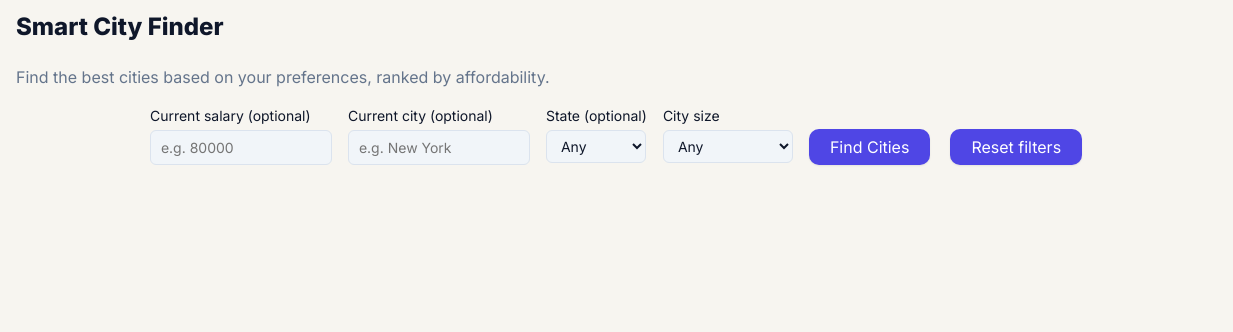
SmartCityFinder › resets all filters and clears rendered results
Type "90000" into the number field with placeholder "e.g. 80000" at (241, 147), box [150,130,332,165]
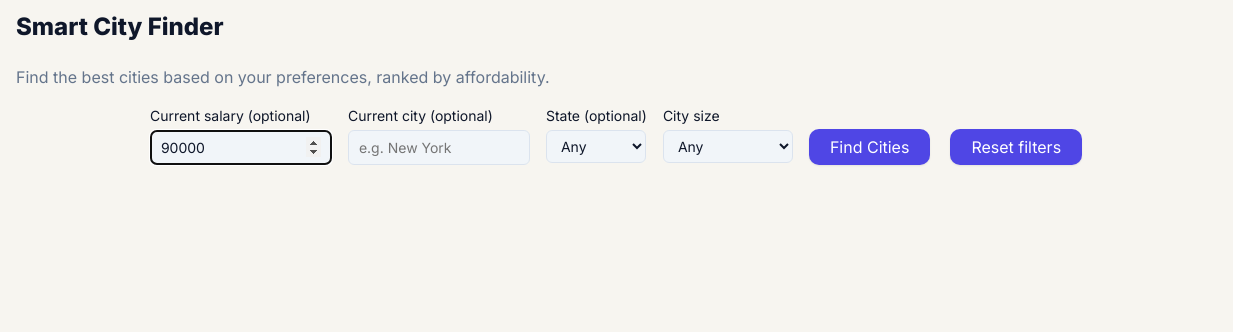
Type "New York" into the field with placeholder "e.g. New York" at (439, 147), box [348,130,530,165]
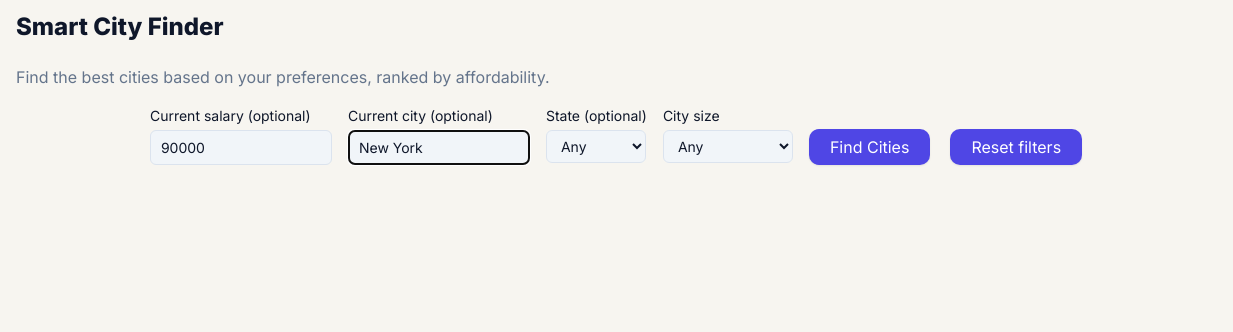
Select "TX" in the dropdown labelled "State (optional)" at (596, 146), box [546,130,646,163]
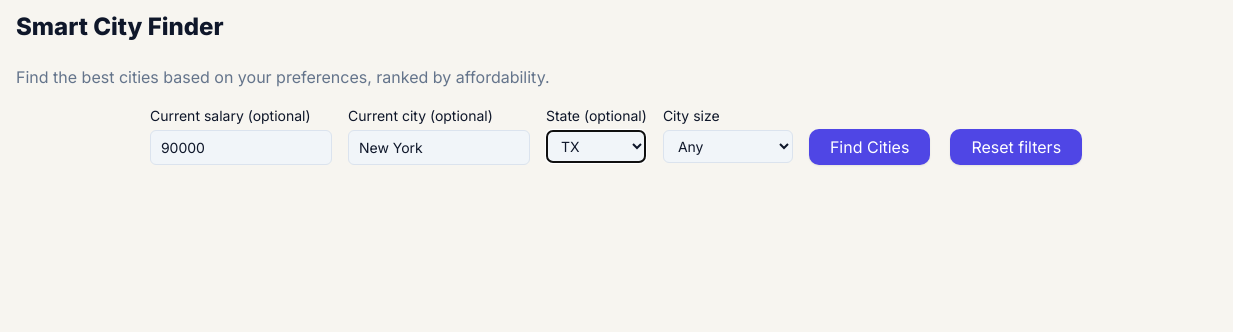
Select "Large (>500k)" in the dropdown labelled "City size" at (728, 146), box [663,130,793,163]
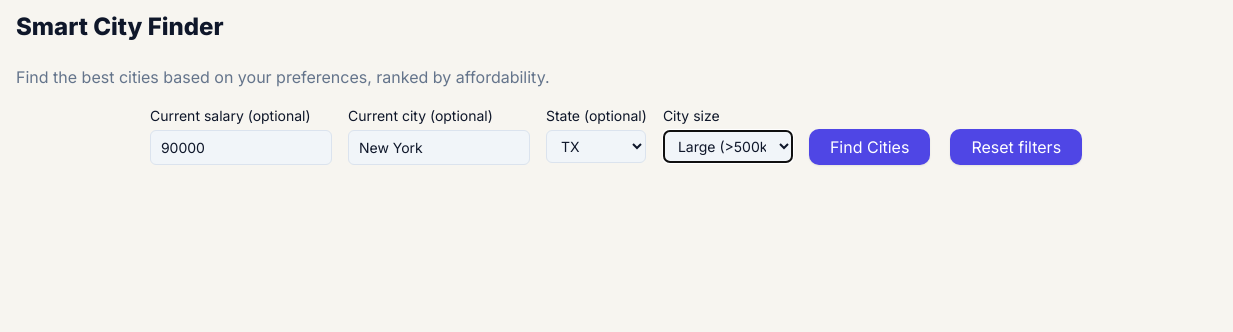
Click the button "Find Cities" at (870, 147), box [809,129,930,165]
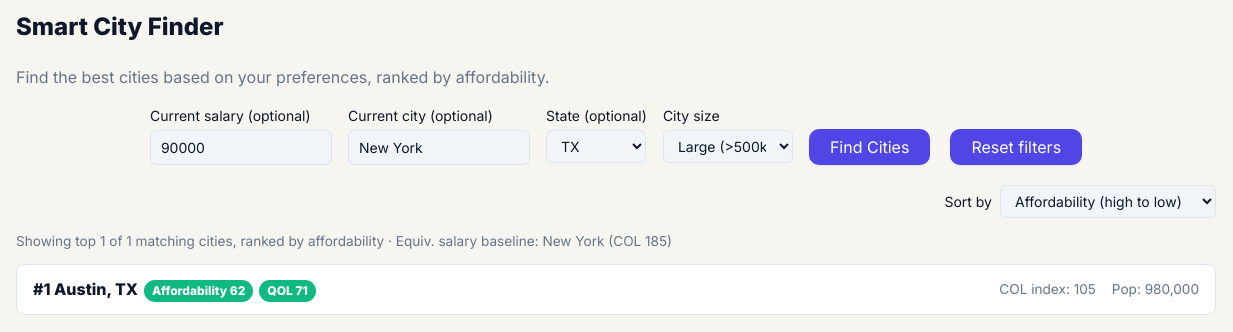
Result: the text "Showing top 1 of 1 matching cities" is shown at [16,233,672,249]
Click the button "Reset filters" at (1016, 147), box [950,129,1082,165]
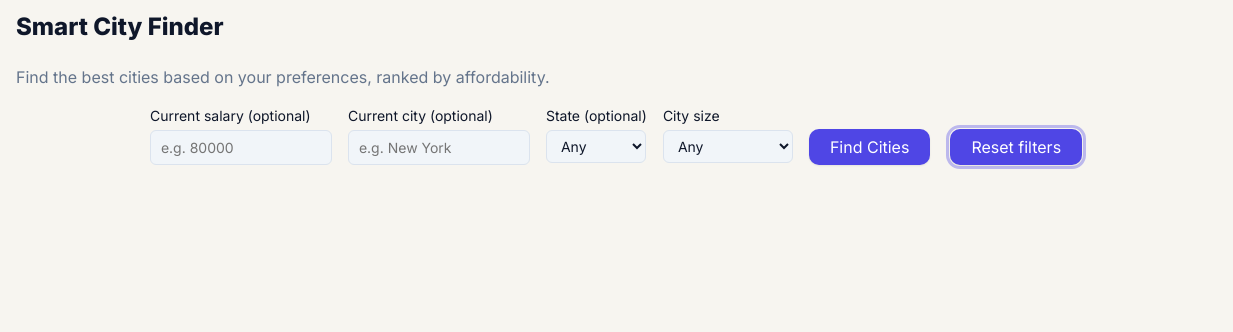
Result: the number field with placeholder "e.g. 80000" is not empty at [150,130,332,165]
Result: the field with placeholder "e.g. New York" is empty at [348,130,530,165]
Result: the text "Showing top 1 of 1 matching cities" is gone
